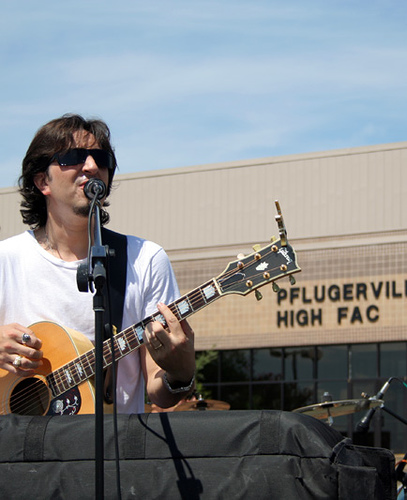guitar: (1, 233, 305, 423)
